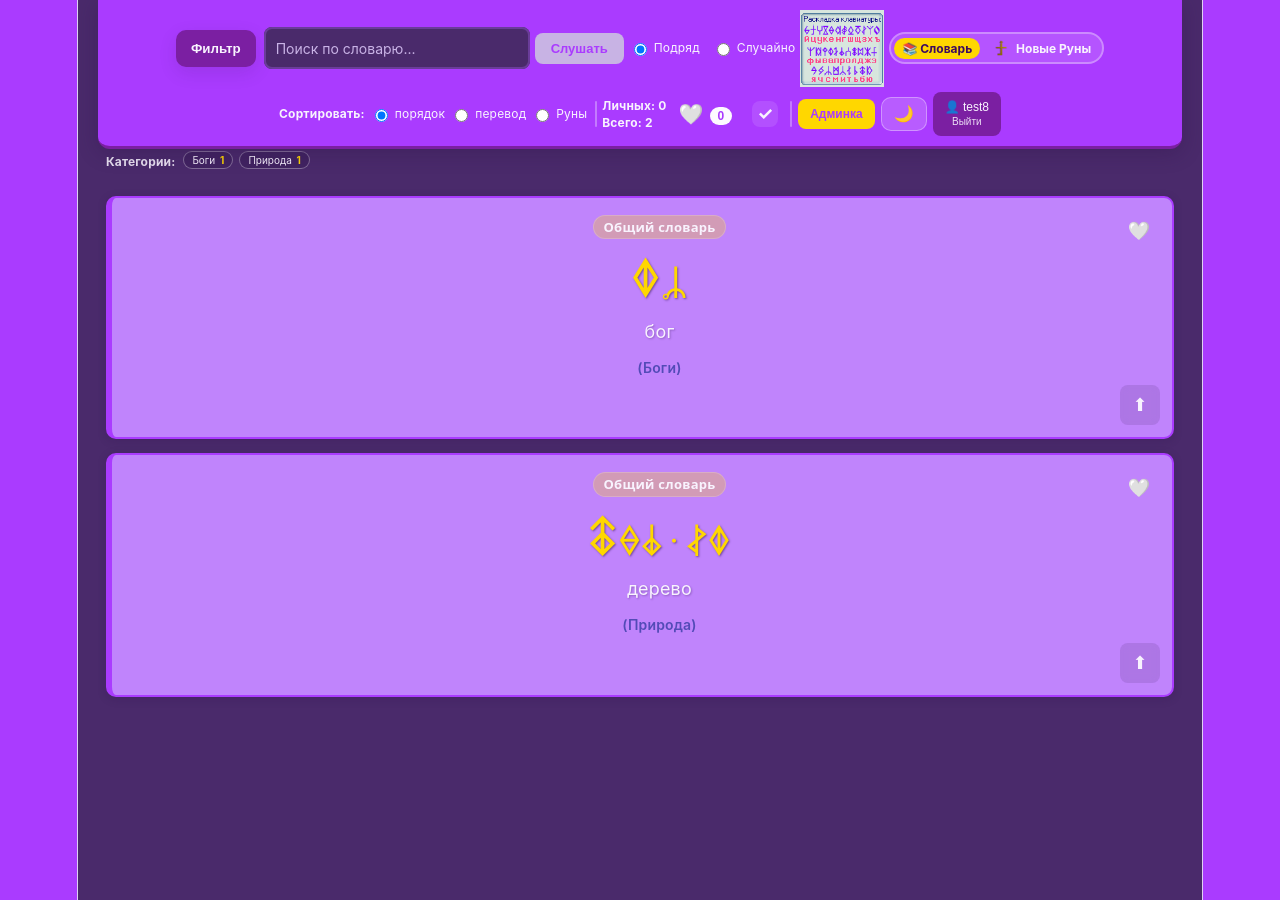
Лента категорий под шапкой: клик по чипу › тап по чипу (pointerdown + click без движения) включает фильтр категории
expect the list with class "category-stats-scroll" is shown: met, box x1=183 y1=150 x2=310 y2=168
Click the list item with class "category-stat-chip" showing "Боги 1": coordinates (208, 160) x1=183 y1=150 x2=233 y2=168
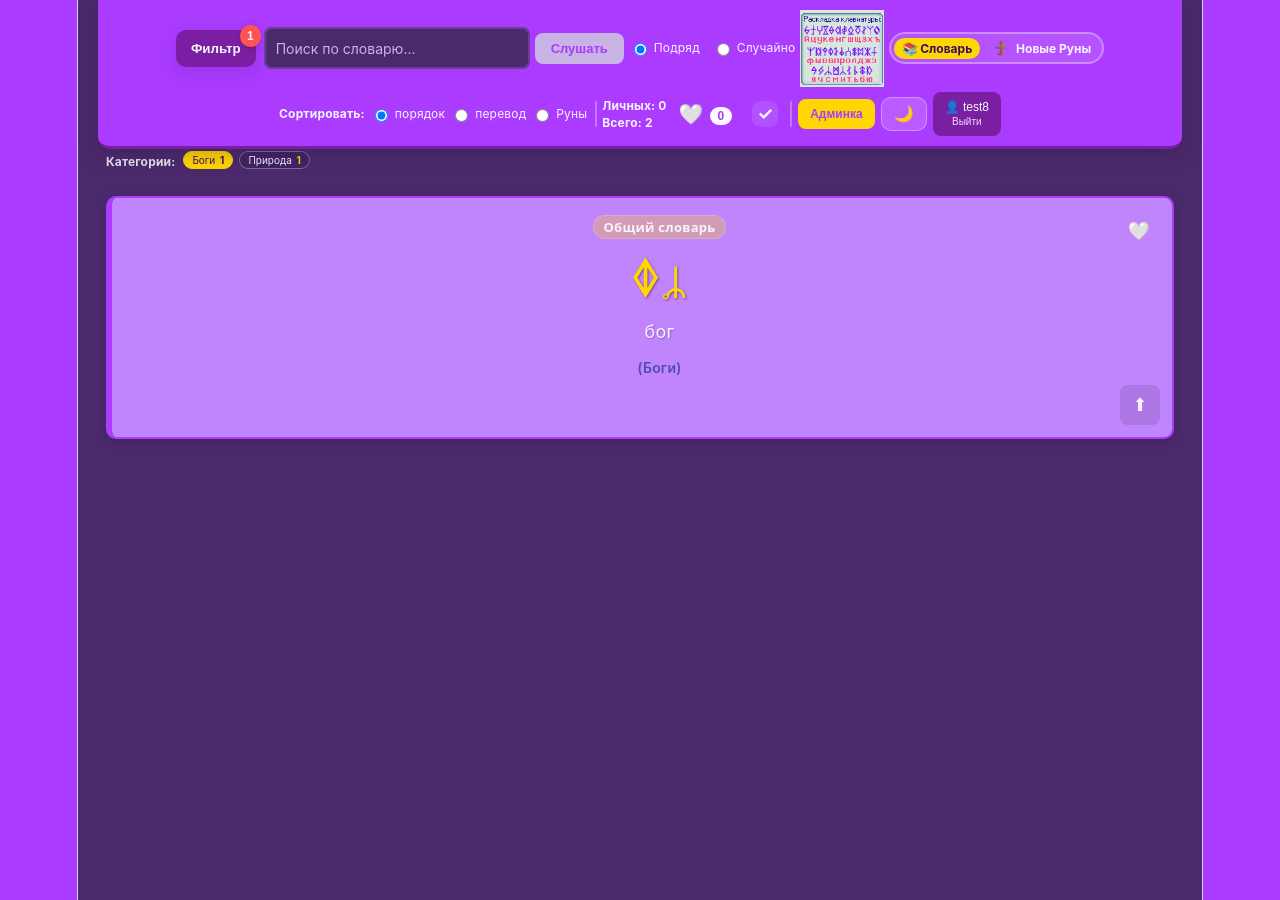
expect the element with class "results" shows "Ас": met, box x1=632 y1=250 x2=687 y2=306
expect the heading with class "results" no longer shows "Берёза": met
